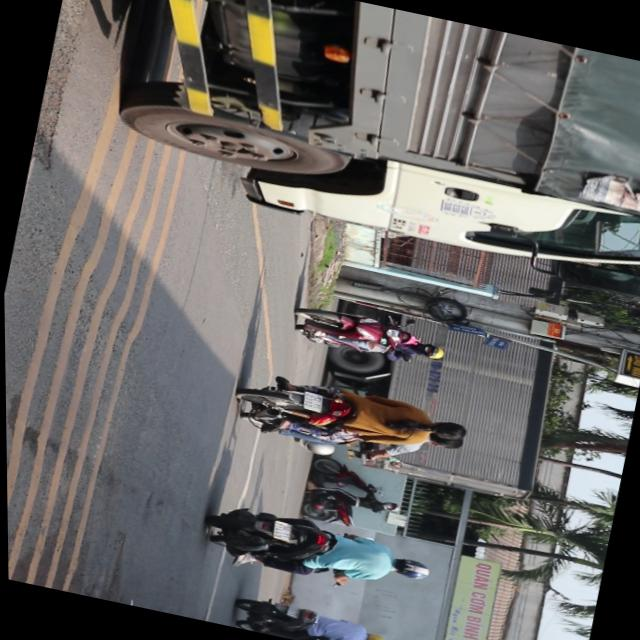helmet: (425, 416, 468, 446), (413, 340, 445, 360)
licenseplate: (229, 362, 473, 477), (199, 496, 434, 604), (285, 298, 449, 372)
nohelmet: (389, 554, 430, 581), (270, 520, 289, 541), (302, 392, 323, 411)
